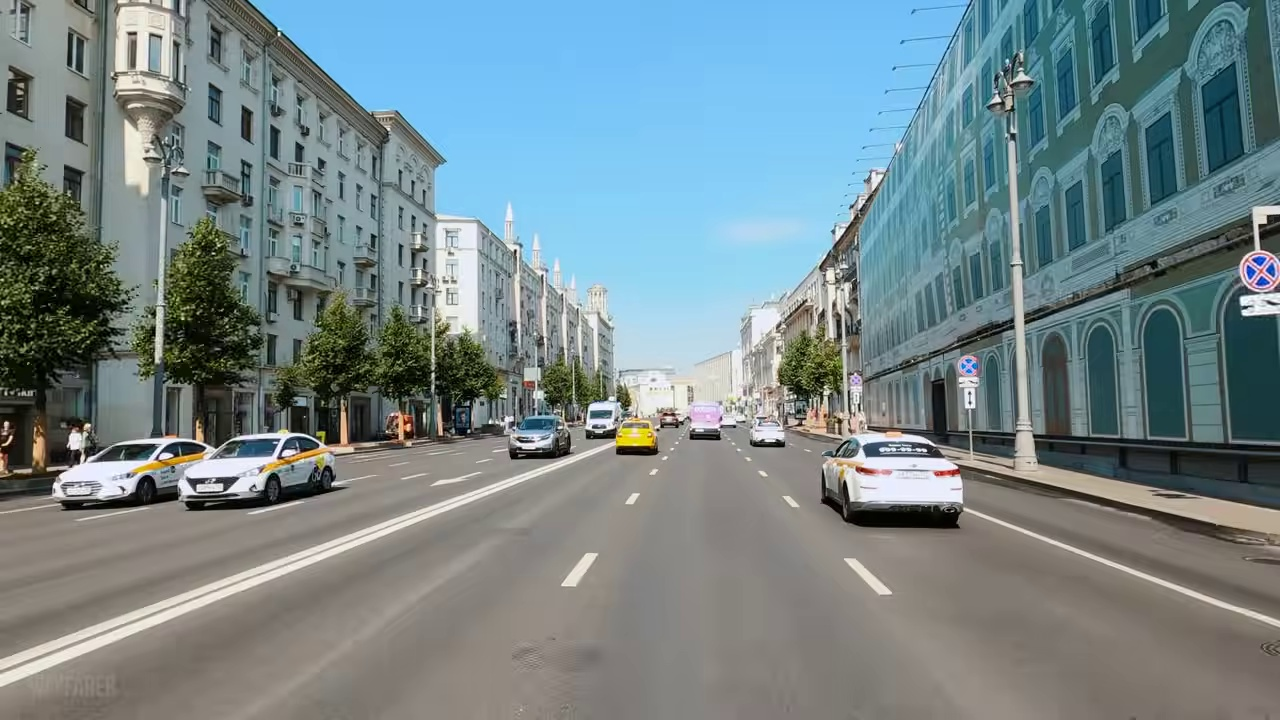apagada: (139, 143, 194, 191), (984, 68, 1036, 117)
